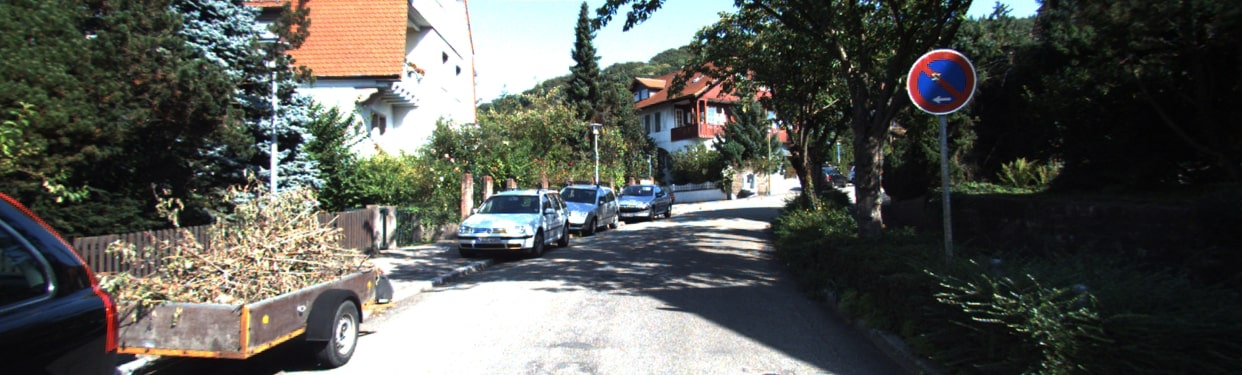car: (1, 198, 395, 375), (456, 180, 571, 259), (569, 179, 621, 234), (619, 177, 677, 219)
